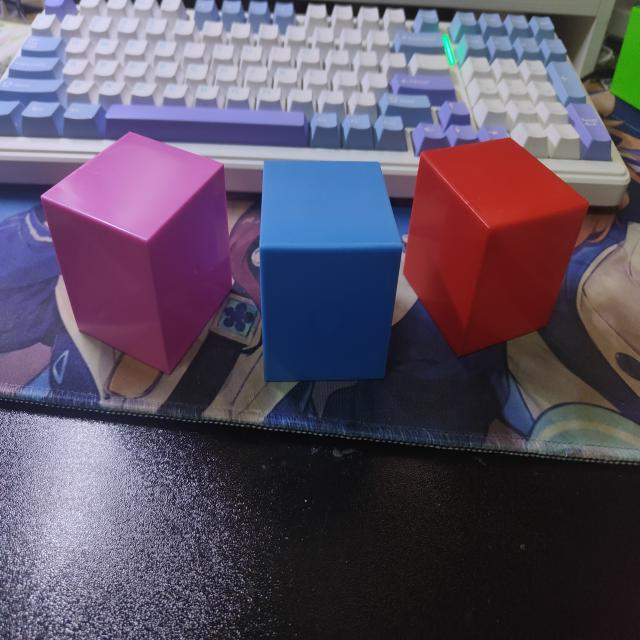blue: (257, 158, 403, 386)
pink: (38, 129, 234, 379)
red: (401, 138, 590, 360)
